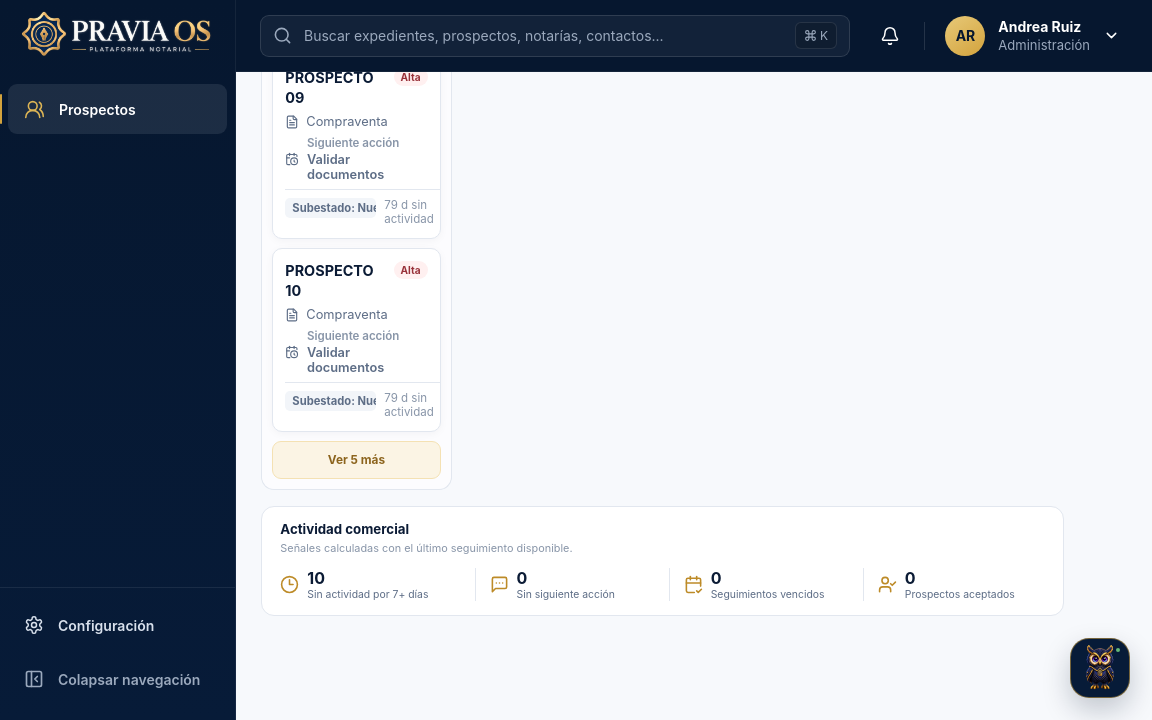
Test: Prospectos › limita cada lane a 10 y carga el siguiente bloque sin duplicados
(page scrolled)
Expected: the text "PROSPECTO 15" is not shown
Click the button "Ver 5 más": (356, 460) [272, 441, 440, 479]
(page scrolled)
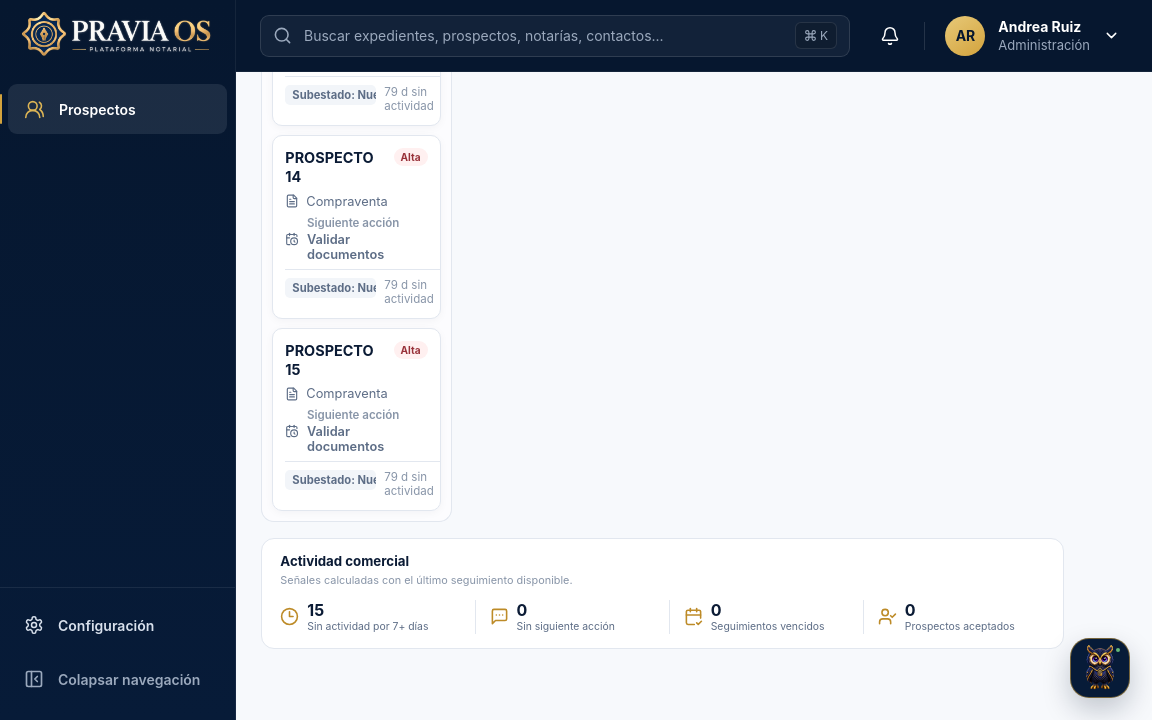
Now the text "PROSPECTO 15" is shown, box [285, 341, 386, 380]
